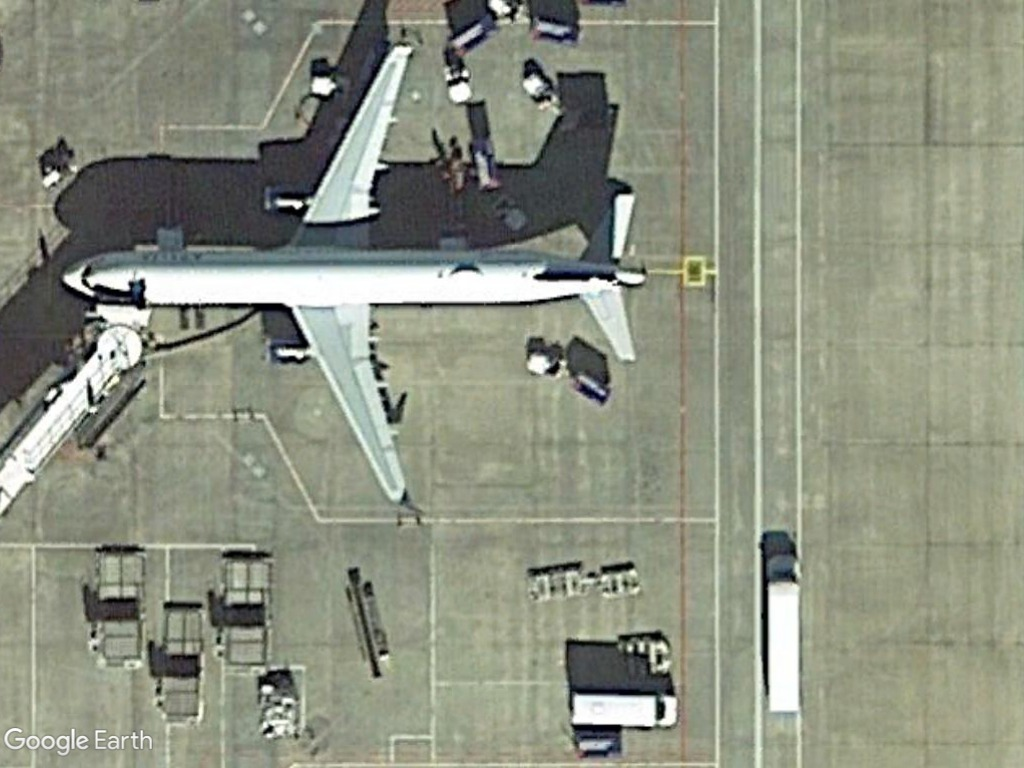airliner: (49, 35, 659, 524)
longvehicle: (759, 543, 804, 719)
truck: (565, 688, 681, 733)
